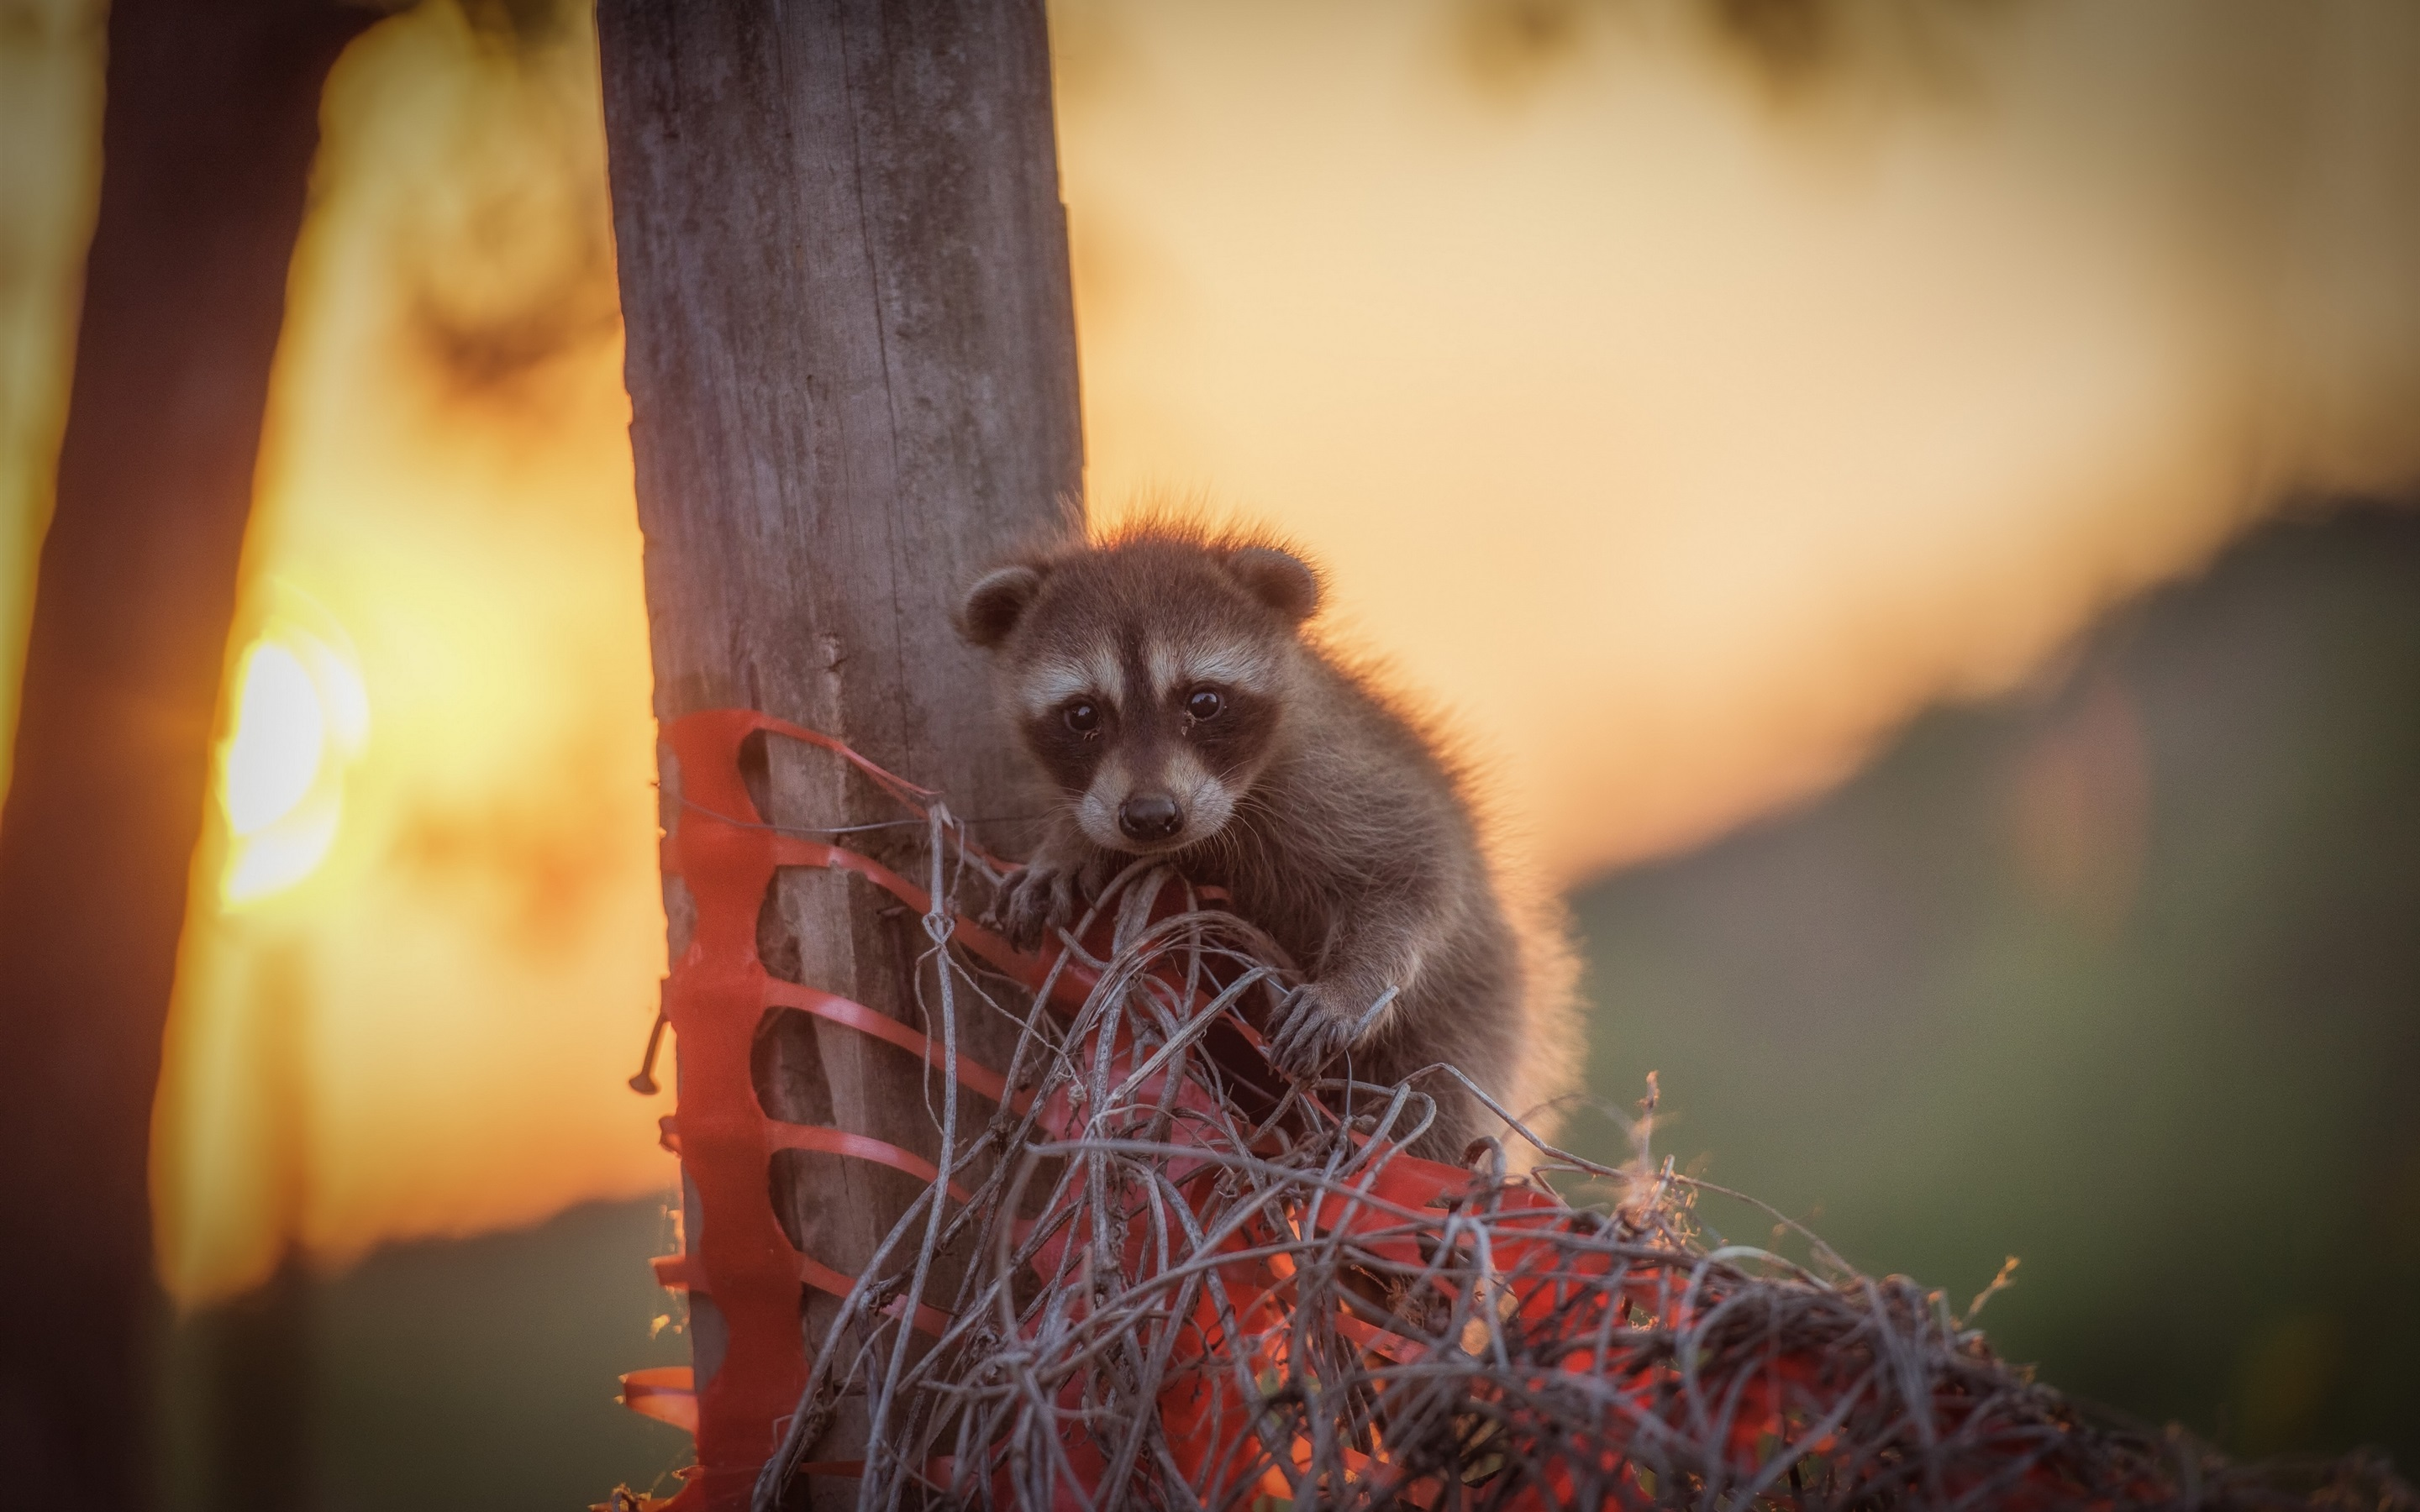raccoon: (923, 512, 1596, 1225)
